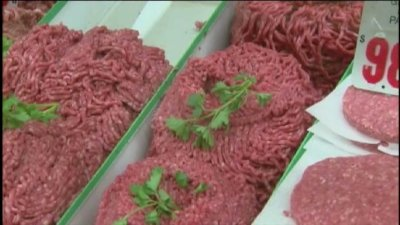ground_beef: (7, 24, 133, 174), (170, 42, 286, 174), (233, 2, 343, 77), (292, 153, 399, 225), (344, 75, 400, 136)
